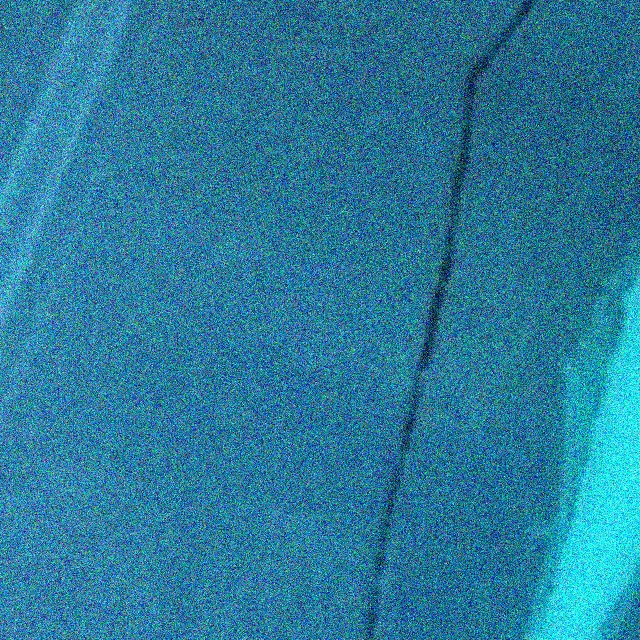SurfaceCrack: (338, 8, 564, 640)
